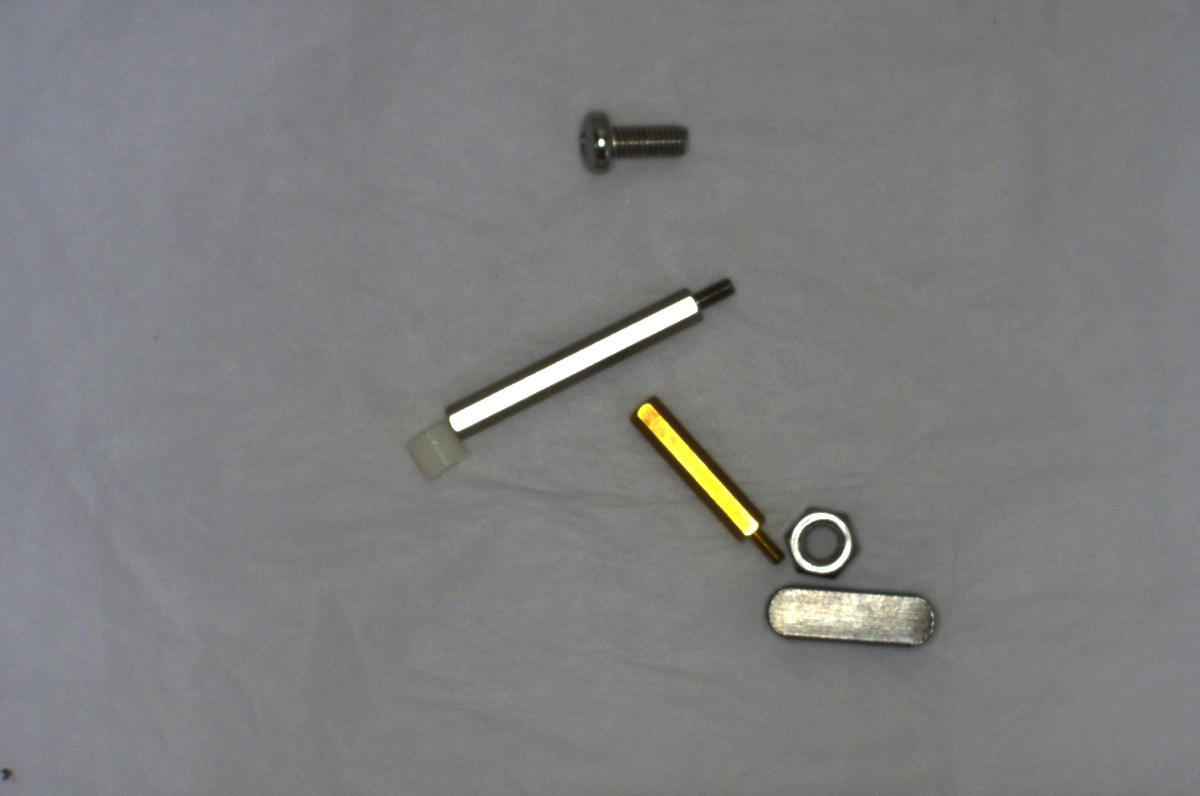Hexagon nut: (767, 495, 860, 590)
Hexagon pillar: (625, 400, 792, 576)
Hexagonal steel column: (447, 264, 733, 428)
Keybar: (758, 573, 946, 655)
Plastic cushion pillar: (401, 413, 473, 483)
Round head screw: (562, 98, 696, 180)
